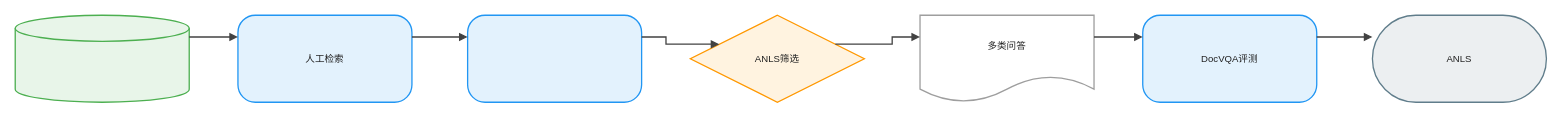
Some shapes in this 1563 by 118 pixel diagram are drawn without their labels. The centre of each missing label's shape, as x and y in pixels:
公开文档: point 101,58
问答标注: point 554,58
